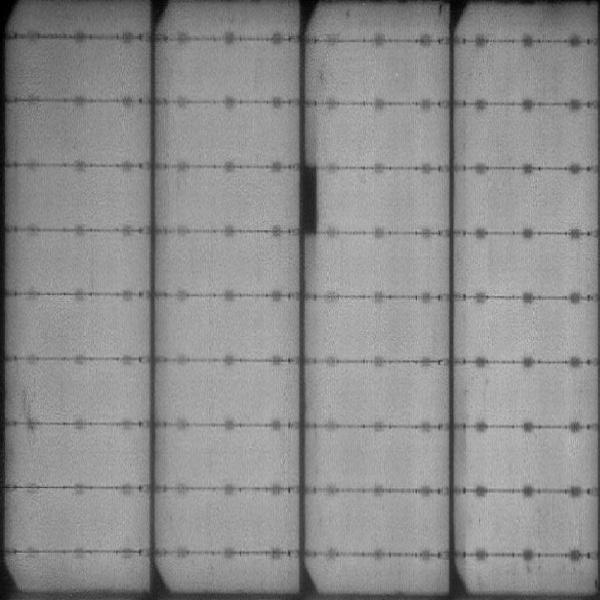black_border: (296, 160, 325, 238)
